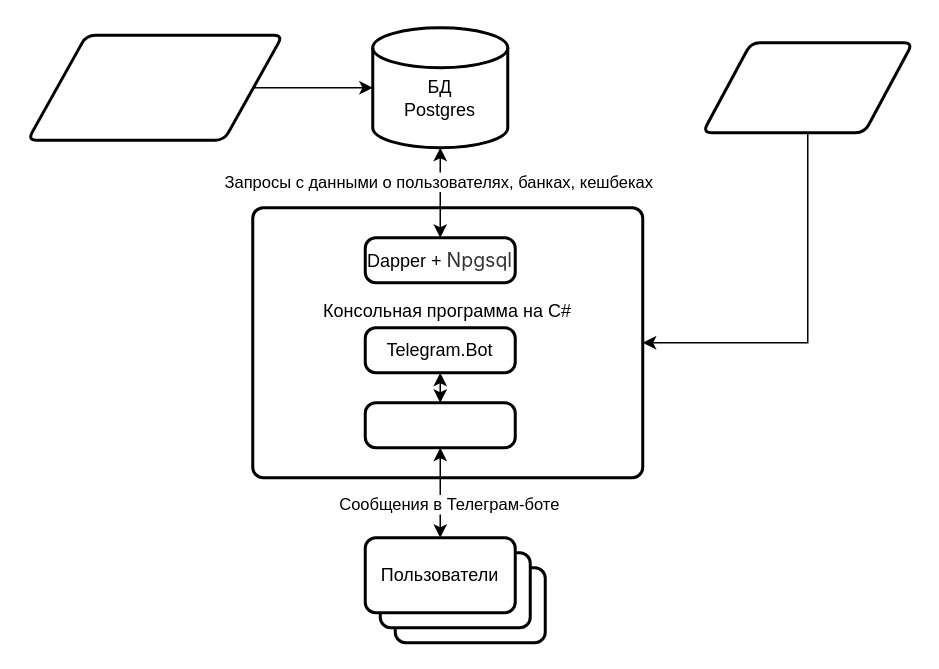
The diagram is 939 pixels wide and 669 high, and some of its shapes have lost their labels. The shapes that lost their labels are listed below. From the top down, each one's centre as x and y in pixels, then its label:
point 155,87: XML с данными о банках на сайте Центробанка России
point 807,87: JSON-файл с настройками для бота и БД
point 439,424: Telegram API
